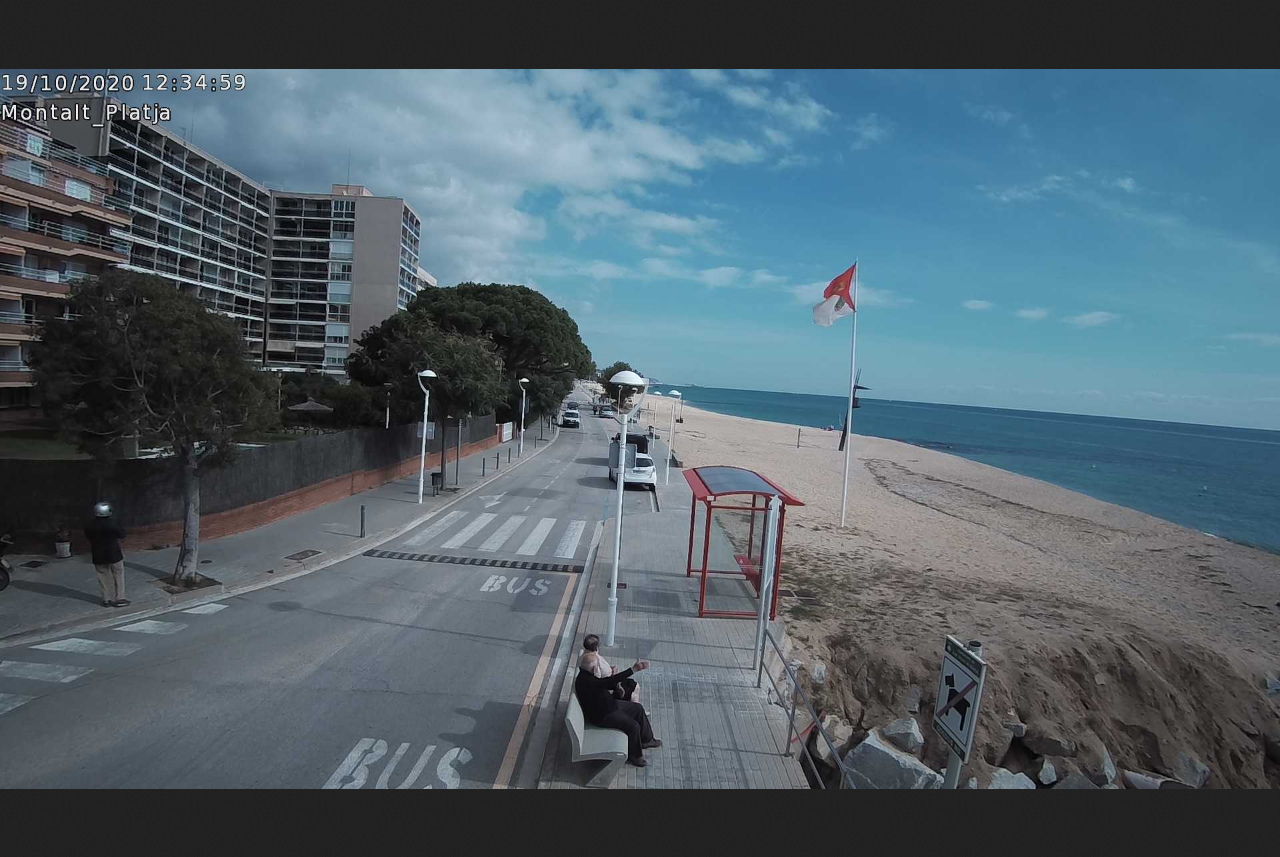maybe: (812, 257, 855, 326)
